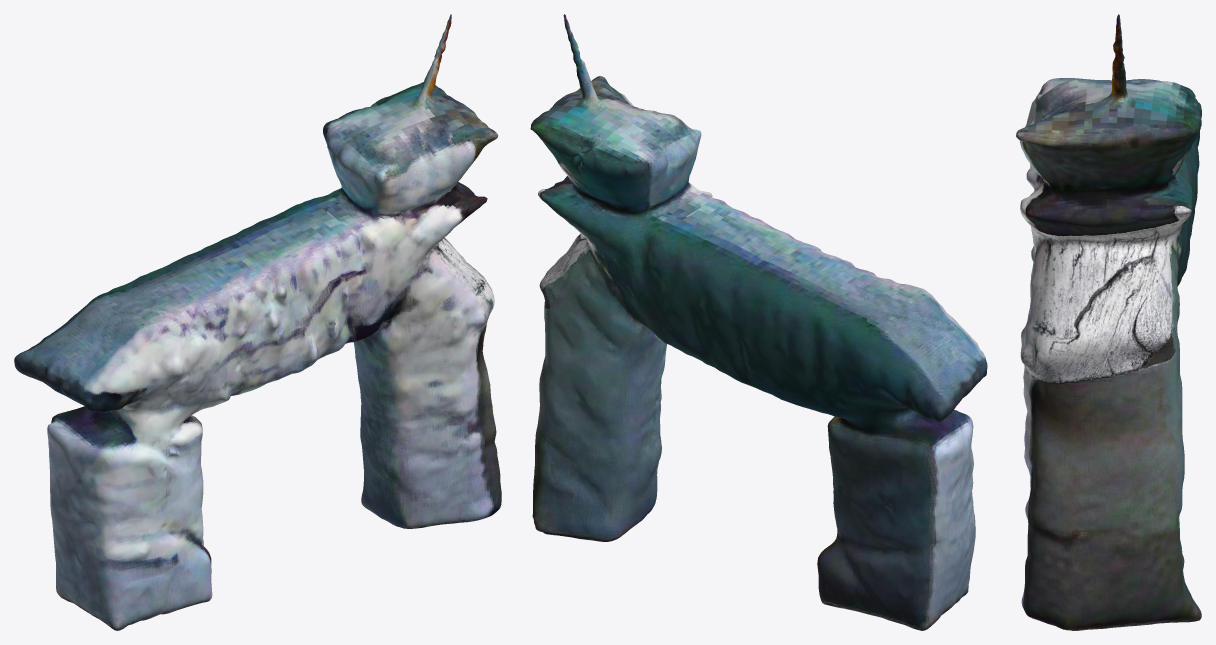
File: MysticCorn.glb
3 views of the same model, side by side, from view 1: azimuth 30°, elevation 25°; view 2: azimuth 150°, elevation 25°; view 3: azimuth 270°, elevation 25° (orthographic). The views are drawn at different scales.
Parts seen in each view (by area): view 1: Mesh1; view 2: Mesh1; view 3: Mesh1.
Boxes of the visible parts, x1,y1,x2,y2 form: Mesh1: (14,14,501,630); Mesh1: (530,14,987,630); Mesh1: (1016,14,1201,630).
Size of the model in its own units: 1.07 by 1.2 by 0.3146.
1 material, 1 textured.
